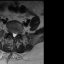CCS_stenosis: (13, 31, 15, 38)
LFS_severe_stenosis: (17, 31, 19, 35)
LLS_normal: (15, 32, 17, 37)
RFS_stenosis: (10, 30, 12, 34)
RLS_stenosis: (12, 31, 14, 37)
